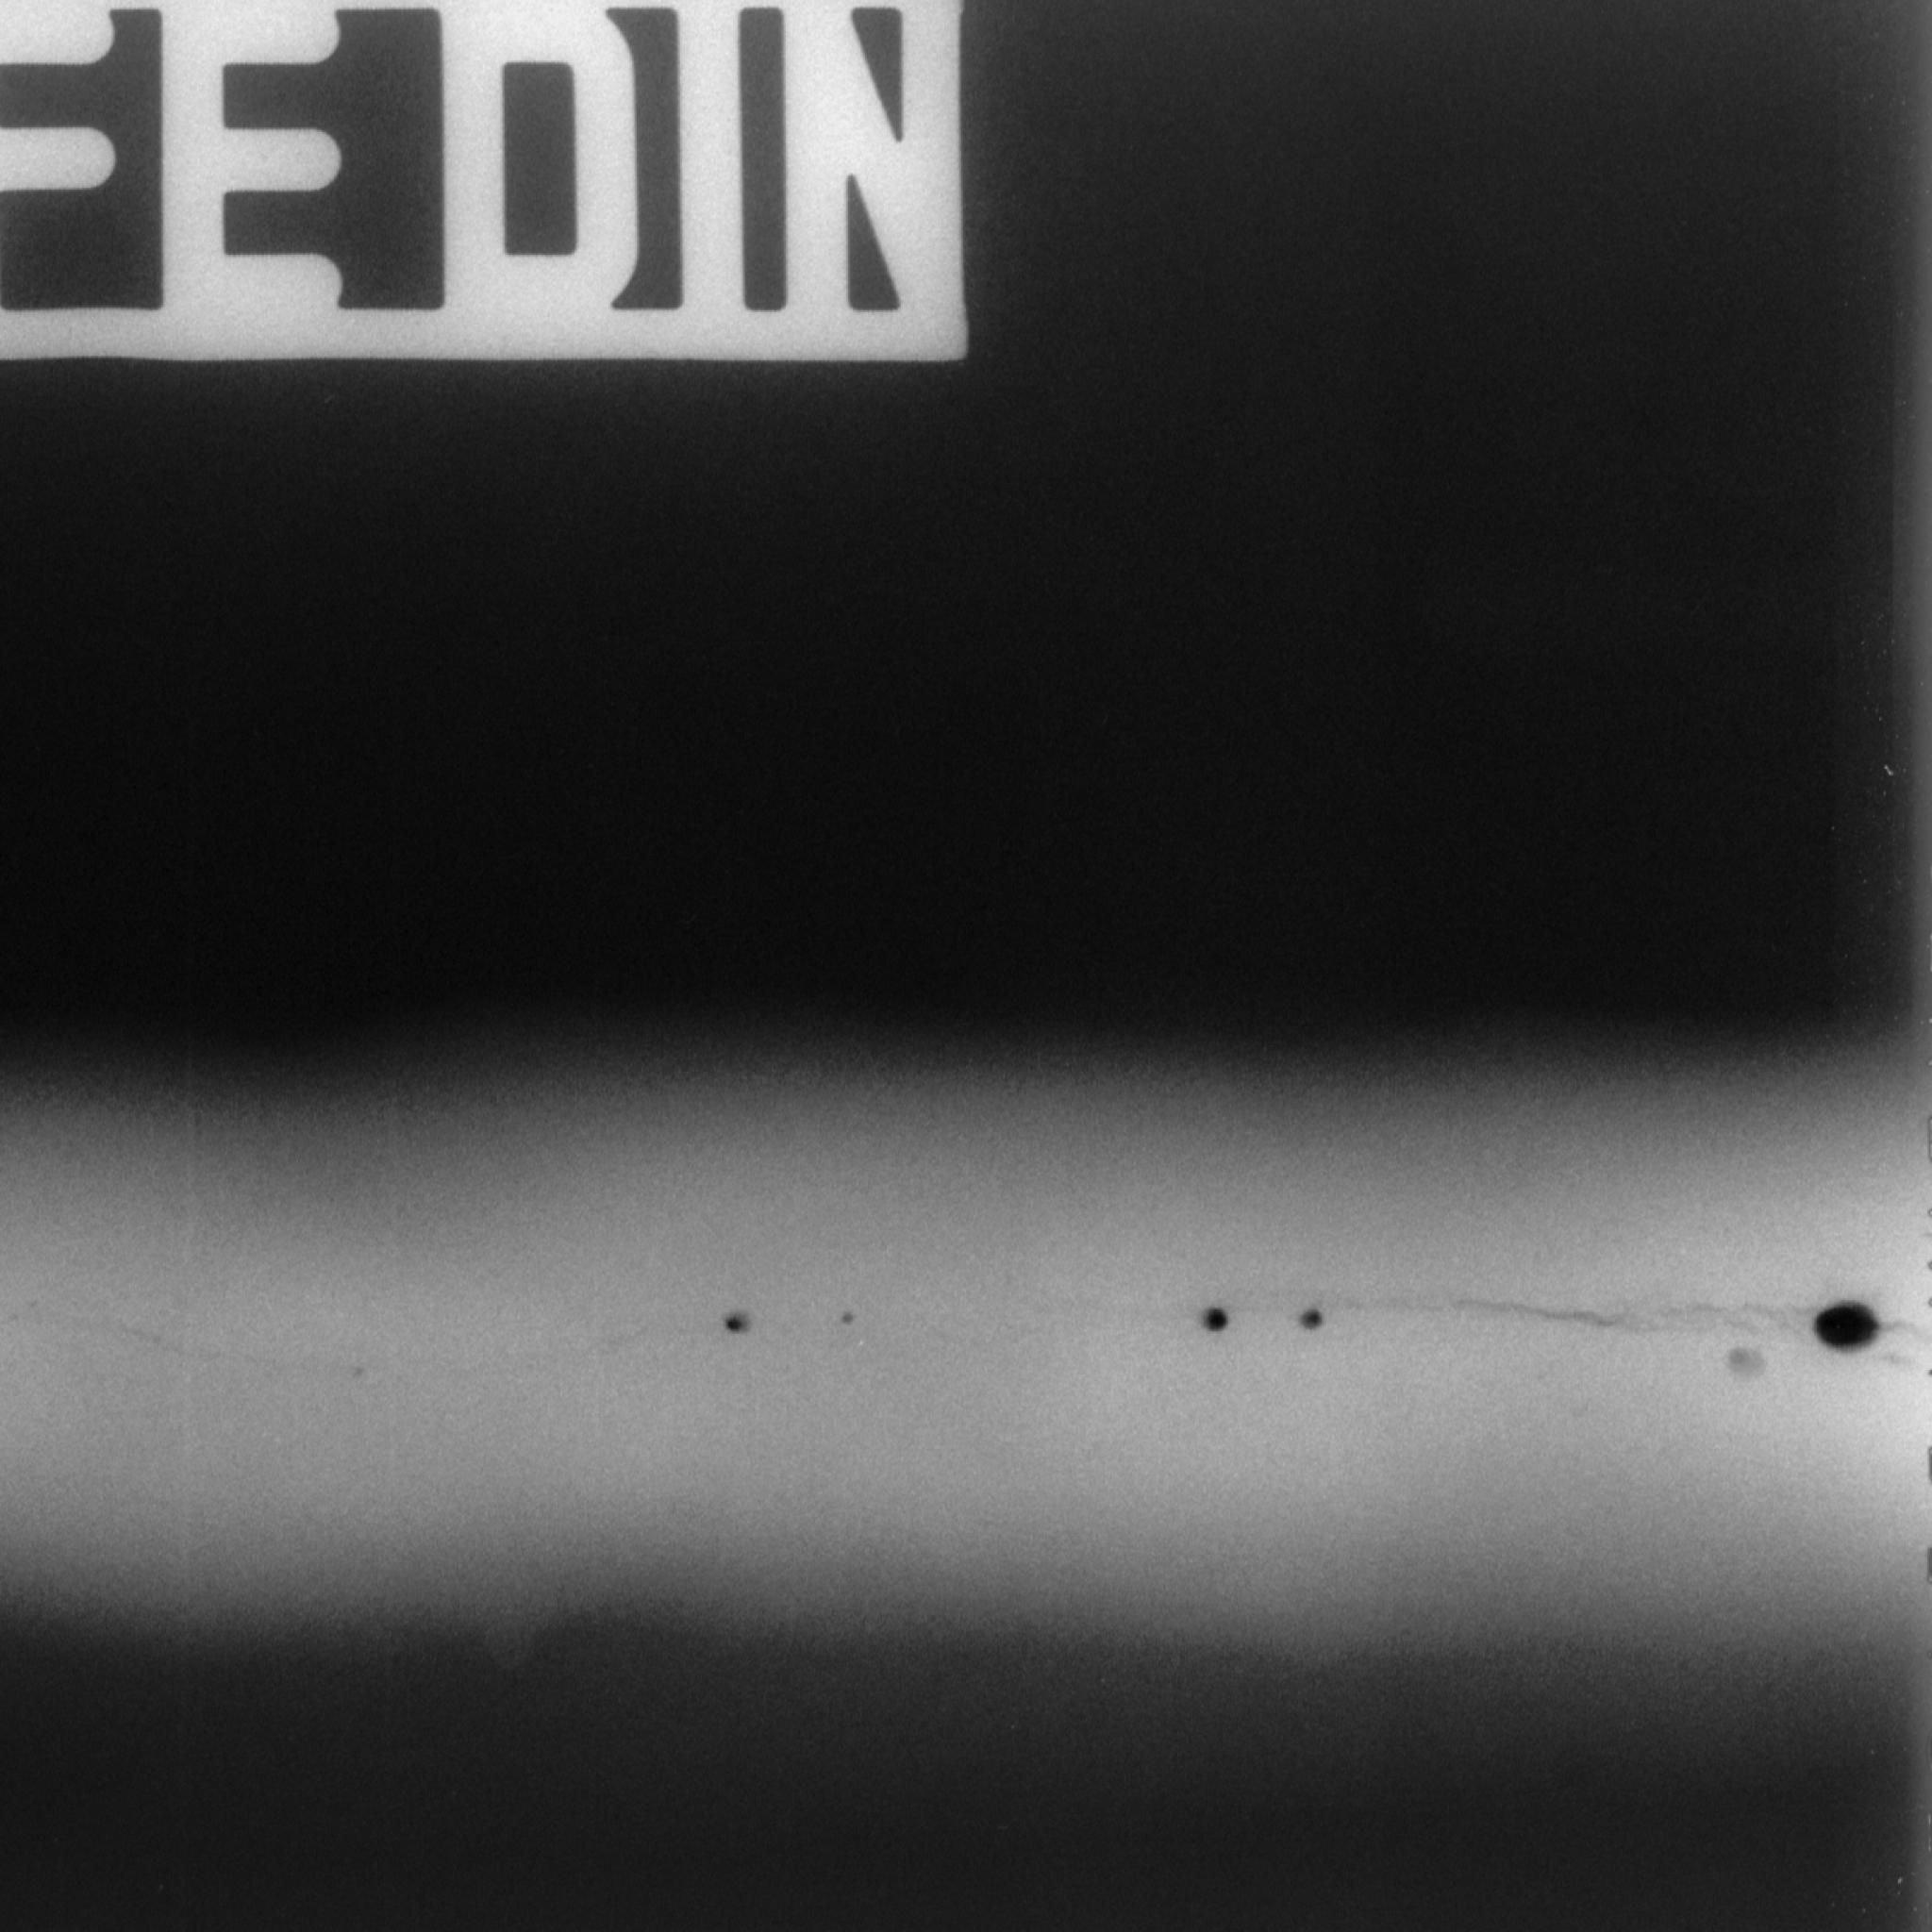PO: (1803, 1283, 1893, 1355), (1718, 1336, 1775, 1392), (706, 1295, 766, 1341), (1194, 1299, 1242, 1345), (1295, 1295, 1329, 1338), (345, 1355, 382, 1389), (837, 1295, 862, 1330)
TR: (0, 1224, 1932, 1444)
